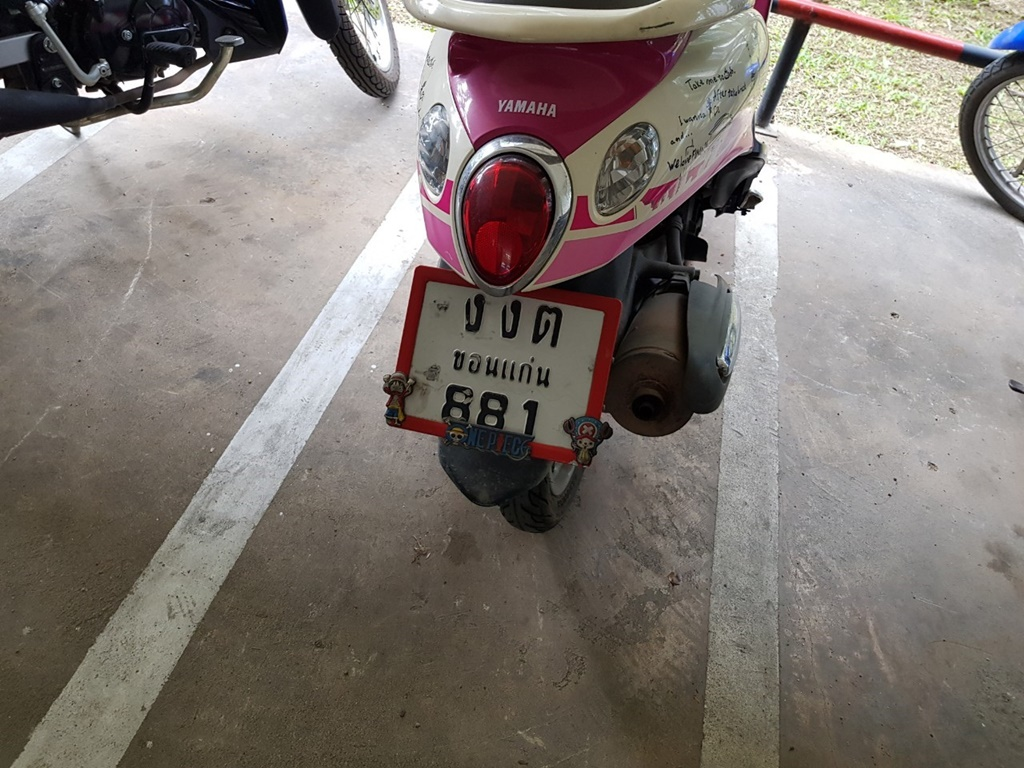eight: (439, 371, 477, 439), (475, 381, 509, 442)
one: (513, 388, 544, 452)
